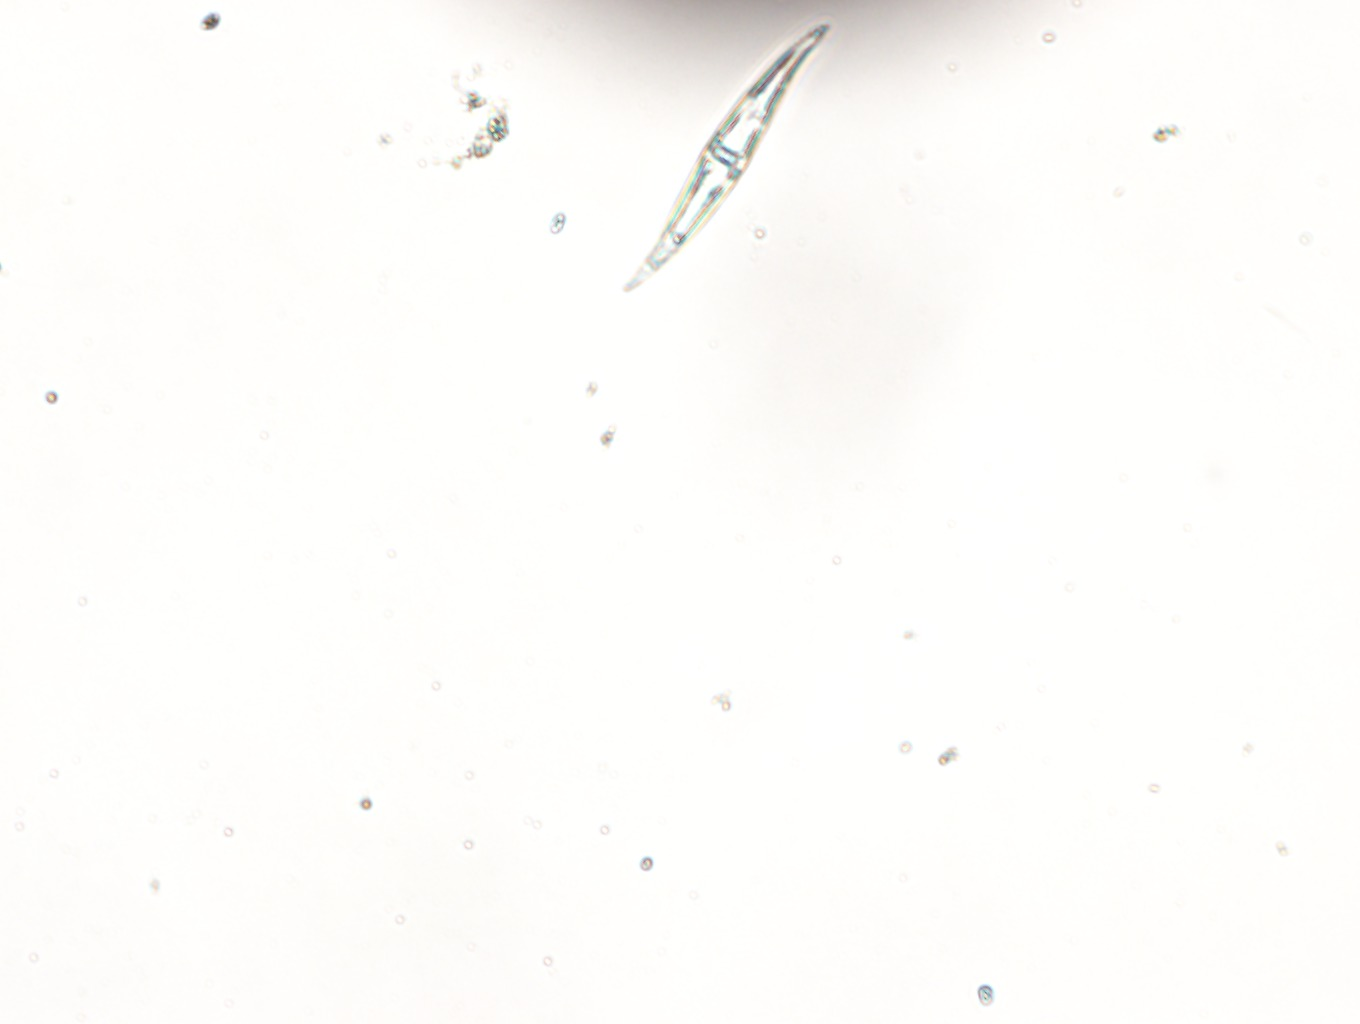pleurosigma pelagicum: (620, 15, 830, 293)
